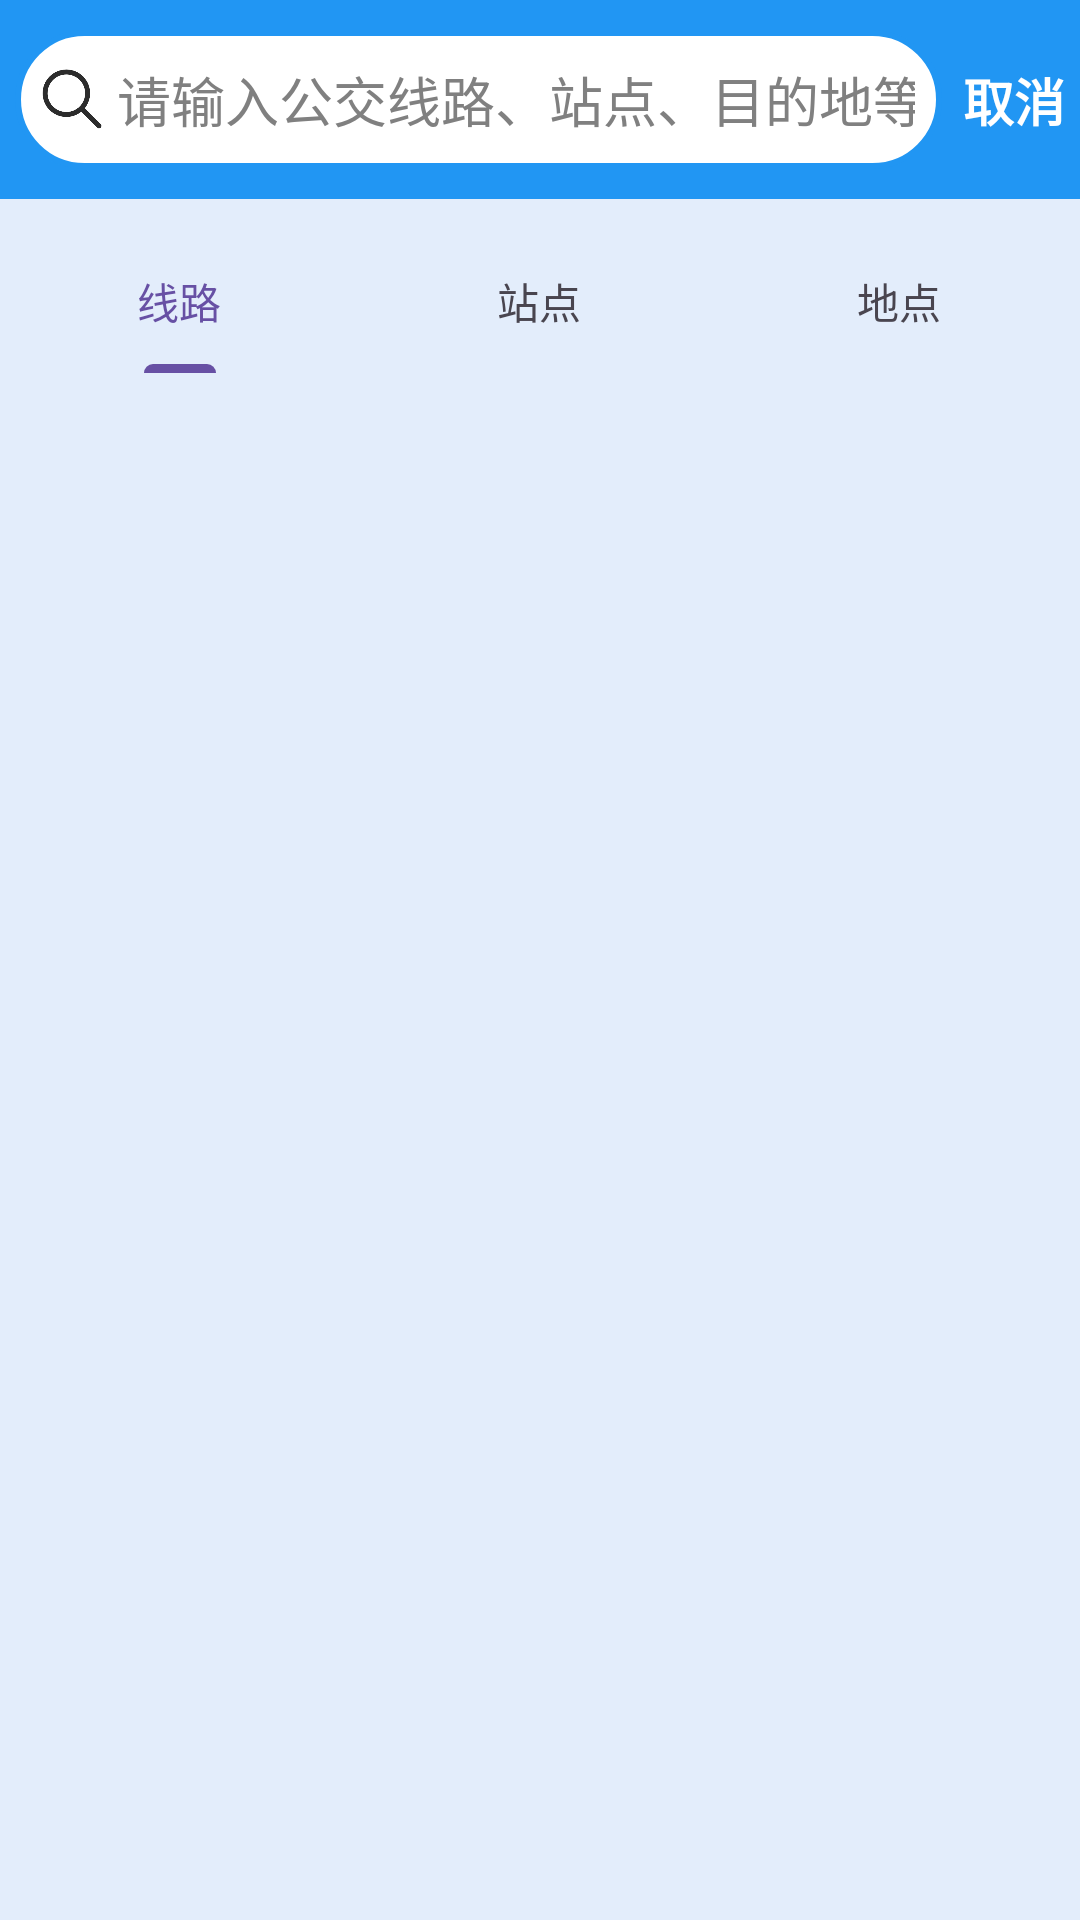

Icon bounding boxes for this 1080*1920 phone screenshot, format (x1, y1, x2, y2):
search: (42, 69, 102, 129)
